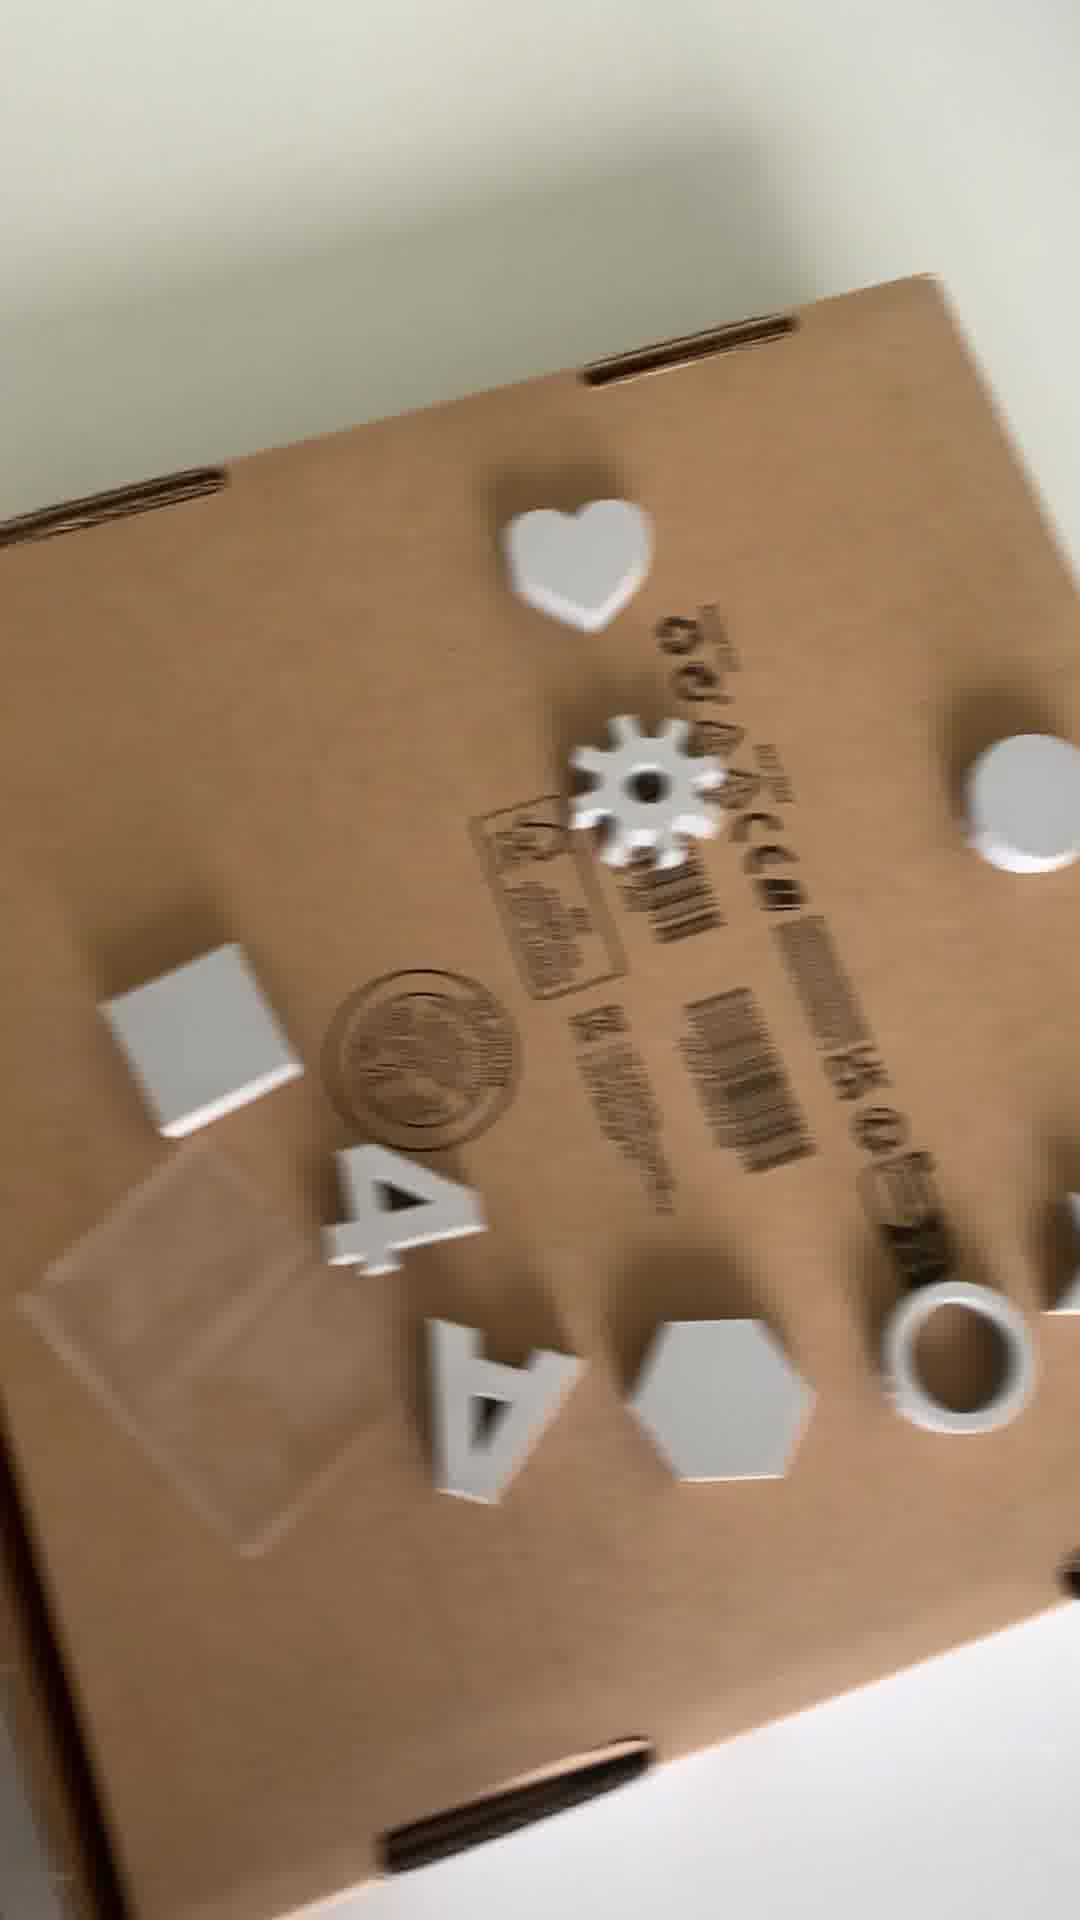Gray A-letter: (396, 1315, 588, 1505)
Gray circle: (955, 740, 1080, 876)
Gray four: (309, 1134, 504, 1305)
Gray gear: (560, 712, 723, 880)
Gray heart: (504, 497, 658, 636)
Gray hexagon: (618, 1321, 822, 1510)
Gray ring: (878, 1273, 1043, 1447)
Gray square: (102, 934, 311, 1145)
